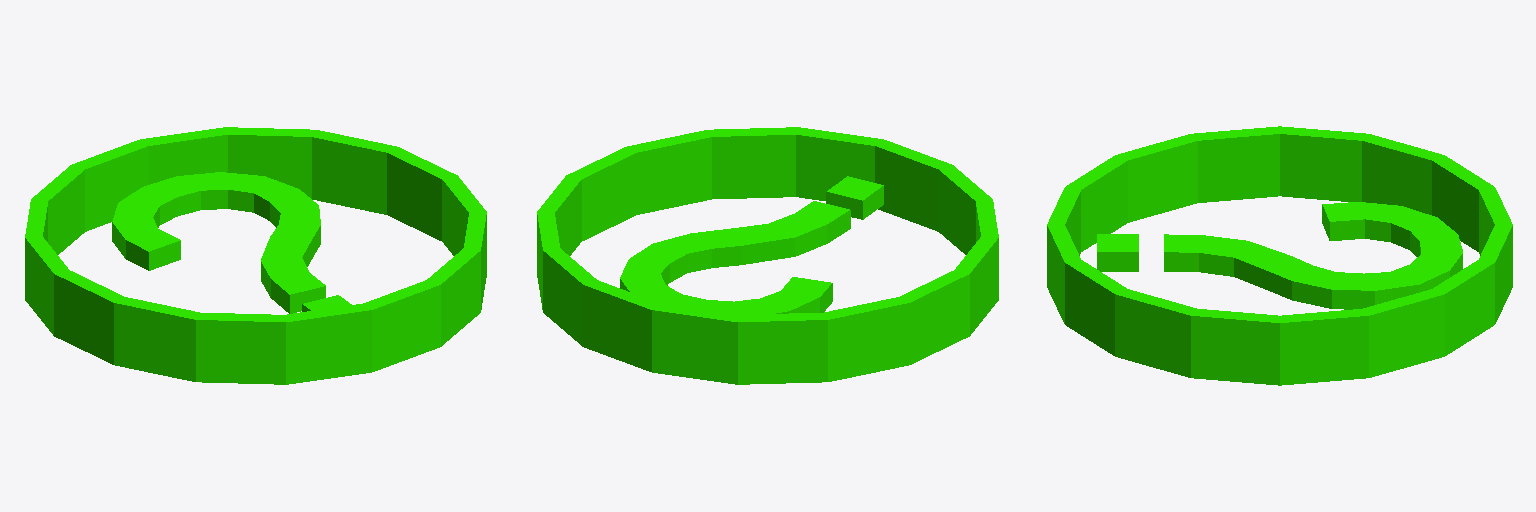
Rendered from IndiceVert.obj.
The picture shows the model from 3 angles: view 1: azimuth 30°, elevation 25°; view 2: azimuth 150°, elevation 25°; view 3: azimuth 270°, elevation 25°; orthographic projection.
Parts seen in each view (by area): view 1: IndiceSocleVe, IndiceInteroVe; view 2: IndiceSocleVe, IndiceInteroVe; view 3: IndiceSocleVe, IndiceInteroVe.
Boxes of the visible parts, <box> form: IndiceSocleVe: <box>25,127,486,384</box>; IndiceInteroVe: <box>112,172,351,313</box>; IndiceSocleVe: <box>537,127,998,384</box>; IndiceInteroVe: <box>620,176,883,314</box>; IndiceSocleVe: <box>1047,126,1512,385</box>; IndiceInteroVe: <box>1097,202,1462,309</box>.
Size of the model in its own units: 231 by 34.21 by 231.